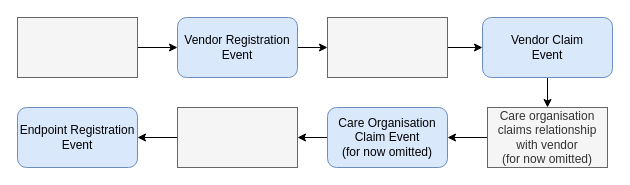
The diagram is 630 pixels wide and 185 high, and some of its shapes have lost their labels. Here are the shapes that lost their labels. From the top down, the box of each, then its label:
(16, 16, 138, 78): Vendor registers itself
(326, 16, 448, 78): Vendor claims relationship with a care organisation
(176, 106, 298, 168): Vendor registers an endpoint for the care organisation
